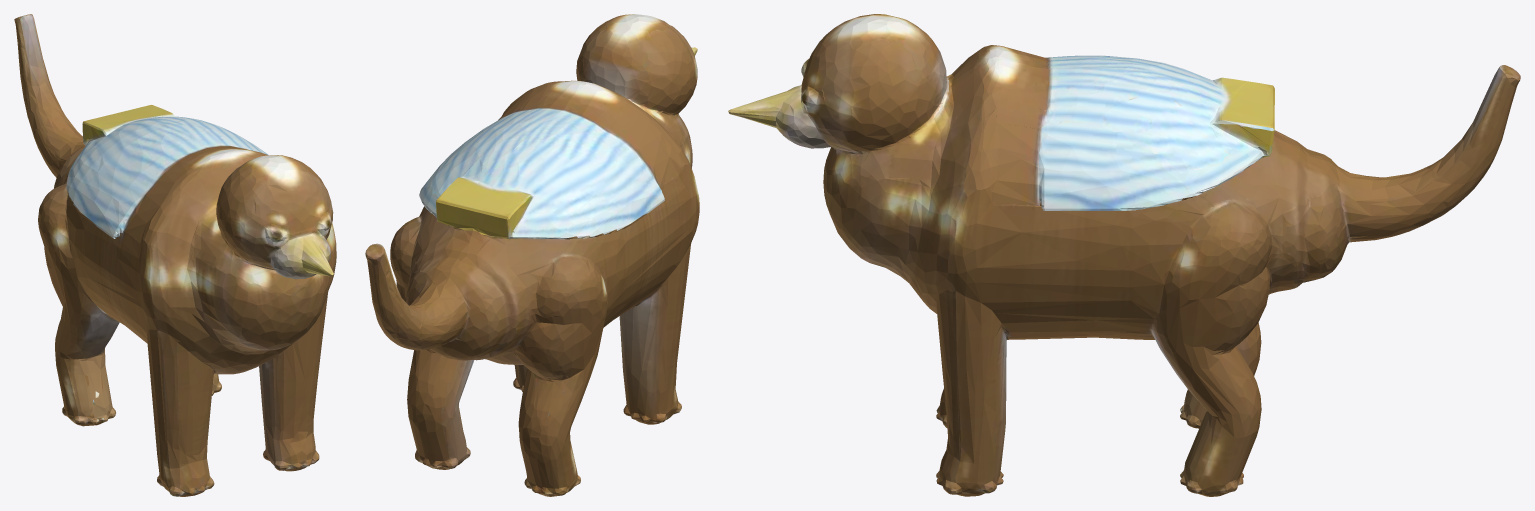
The model's file is creature-063.lod.glb.
3 views of the same model, side by side, from view 1: azimuth 30°, elevation 25°; view 2: azimuth 150°, elevation 25°; view 3: azimuth 270°, elevation 25° (orthographic). The views are drawn at different scales.
Parts seen in each view (by area): view 1: tmpk6siilcz.ply; view 2: tmpk6siilcz.ply; view 3: tmpk6siilcz.ply.
Boxes of the visible parts, <box> form: tmpk6siilcz.ply: <box>14,14,336,496</box>; tmpk6siilcz.ply: <box>365,14,699,496</box>; tmpk6siilcz.ply: <box>728,14,1520,496</box>.
Bounding box in the file's own units: 0.7118 × 1.22 × 1.99.
1 material, 1 textured.
